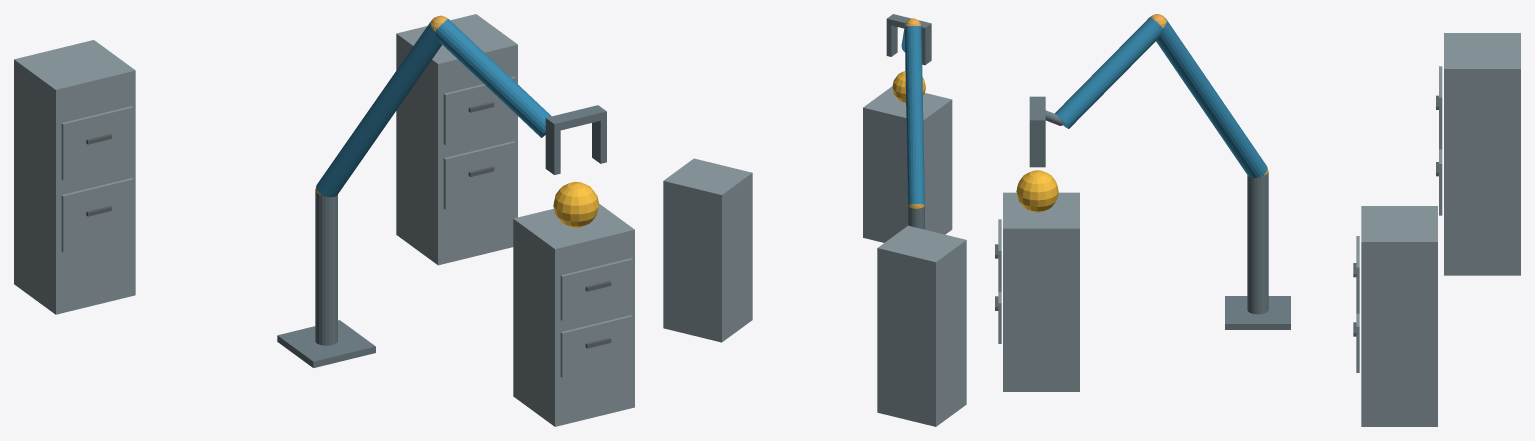
3 views of the same model, side by side, from view 1: azimuth 30°, elevation 25°; view 2: azimuth 150°, elevation 25°; view 3: azimuth 270°, elevation 25° (orthographic). The views are drawn at different scales.
Visible parts, largest first — view 1: cabinet_3 body, cabinet_1 body, cabinet_2 body, moving link 1, cabinet_3 drawer front.001, cabinet_3 drawer front, cabinet_2 drawer front, fixed post, moving link 2, cabinet_1 drawer front.001, cabinet_1 drawer front, cabinet_2 drawer front.001 (+5 smaller); view 2: cabinet_3 body, cabinet_2 body, cabinet_1 body, moving link 1, ball ball_1, gripper finger 1, gripper bridge, fixed post, gripper finger -1; view 3: cabinet_3 body, cabinet_2 body, cabinet_1 body, moving link 1, fixed post, moving link 2, pedestal, ball ball_1, gripper finger 1, gripper bridge.
Part boxes in pixels (left/top/right/bottom): cabinet_3 body: left=14, top=40, right=135, bottom=314; cabinet_1 body: left=513, top=203, right=634, bottom=426; cabinet_2 body: left=396, top=14, right=517, bottom=265; moving link 1: left=316, top=20, right=441, bottom=197; cabinet_3 drawer front.001: left=61, top=106, right=133, bottom=180; cabinet_3 drawer front: left=61, top=178, right=133, bottom=252; cabinet_2 drawer front: left=443, top=141, right=515, bottom=209; fixed post: left=315, top=192, right=337, bottom=345; moving link 2: left=435, top=19, right=551, bottom=137; cabinet_1 drawer front.001: left=560, top=258, right=632, bottom=320; cabinet_1 drawer front: left=560, top=315, right=632, bottom=377; cabinet_2 drawer front.001: left=443, top=76, right=515, bottom=145; cabinet_3 body: left=877, top=225, right=966, bottom=426; cabinet_2 body: left=663, top=158, right=752, bottom=342; cabinet_1 body: left=863, top=86, right=952, bottom=242; moving link 1: left=904, top=26, right=924, bottom=204; ball ball_1: left=892, top=70, right=925, bottom=103; gripper finger 1: left=886, top=24, right=897, bottom=56; gripper bridge: left=886, top=14, right=931, bottom=33; fixed post: left=908, top=205, right=924, bottom=229; gripper finger -1: left=921, top=29, right=931, bottom=65; cabinet_3 body: left=1444, top=33, right=1520, bottom=275; cabinet_2 body: left=1361, top=206, right=1437, bottom=426; cabinet_1 body: left=1003, top=192, right=1079, bottom=391; moving link 1: left=1156, top=19, right=1267, bottom=177; fixed post: left=1247, top=172, right=1268, bottom=314; moving link 2: left=1054, top=17, right=1162, bottom=128; pedestal: left=1225, top=296, right=1290, bottom=329; ball ball_1: left=1016, top=170, right=1058, bottom=212; gripper finger 1: left=1029, top=127, right=1045, bottom=167; gripper bridge: left=1029, top=96, right=1045, bottom=127.
Size of the model in its own units: 1.67 by 1.36 by 1.98.
